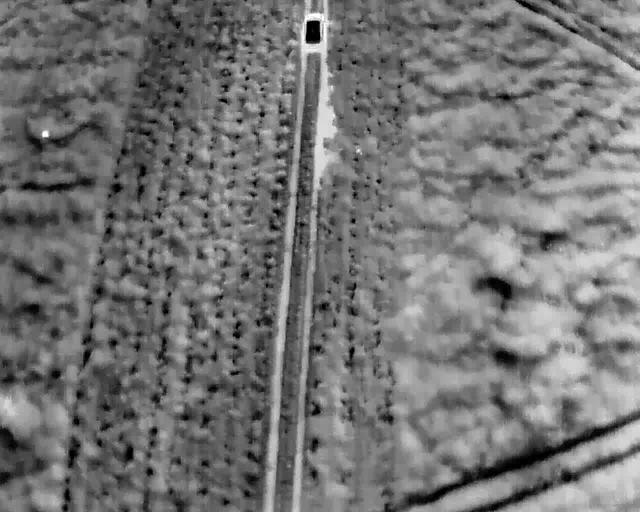car: (302, 13, 325, 53)
